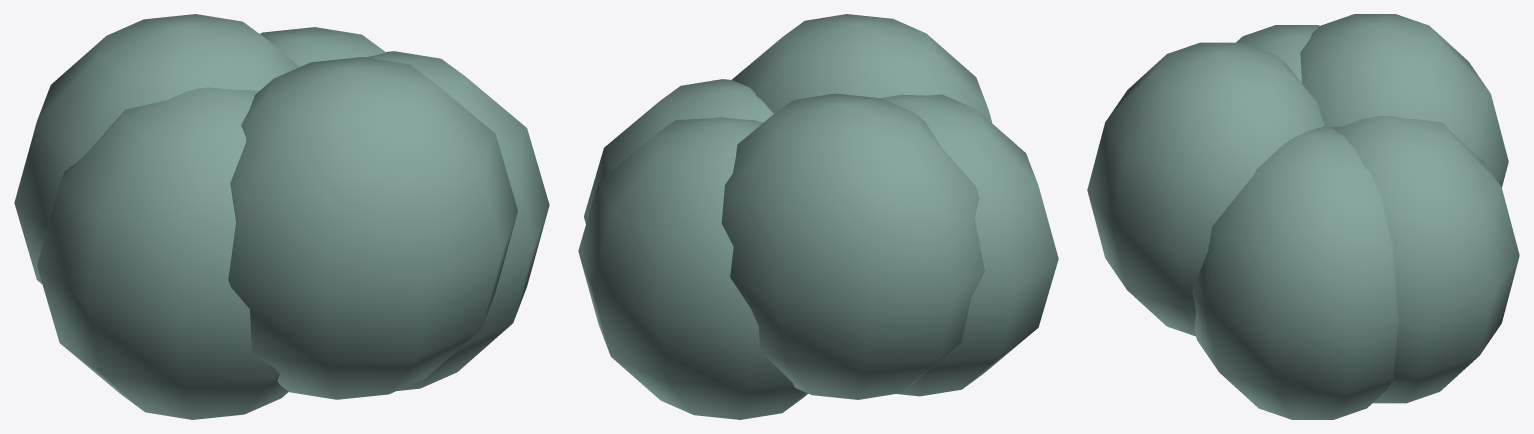
The model's file is Shrub1.fbx.
3 views of the same model, side by side, from view 1: azimuth 30°, elevation 25°; view 2: azimuth 150°, elevation 25°; view 3: azimuth 270°, elevation 25° (orthographic). The views are drawn at different scales.
Visible parts, largest first — view 1: Shrub1; view 2: Shrub1; view 3: Shrub1.
Part boxes in pixels (x1,y1,x2,y2): Shrub1: (14, 14, 549, 419); Shrub1: (578, 14, 1058, 419); Shrub1: (1087, 14, 1519, 419).
Size of the model in its own units: 203 by 188 by 152.
